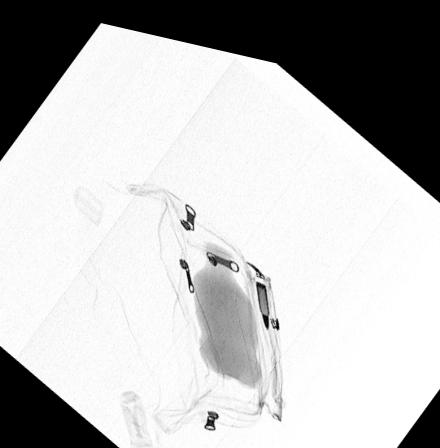Bullet: (254, 267, 269, 317)
